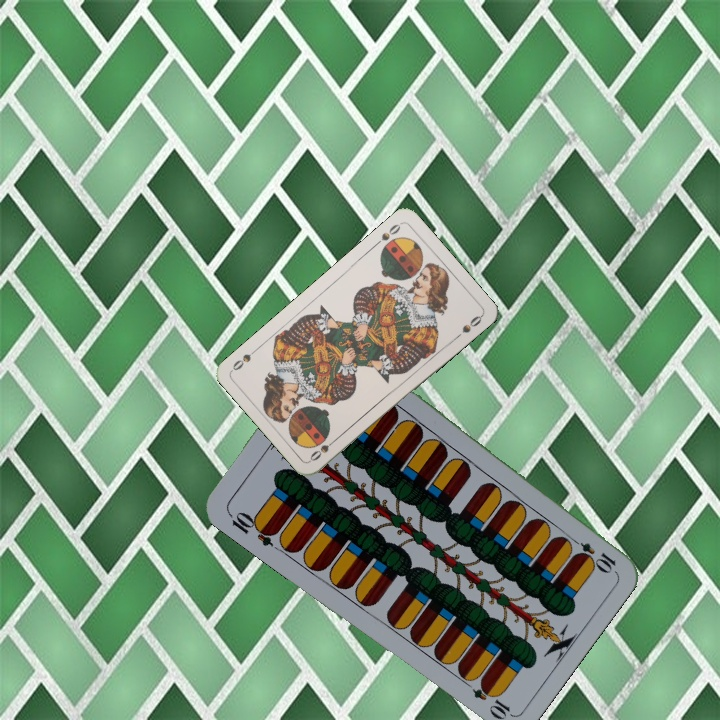E10: (564, 532, 619, 575), (224, 507, 280, 549)
SO: (306, 433, 341, 464), (370, 219, 404, 249)
